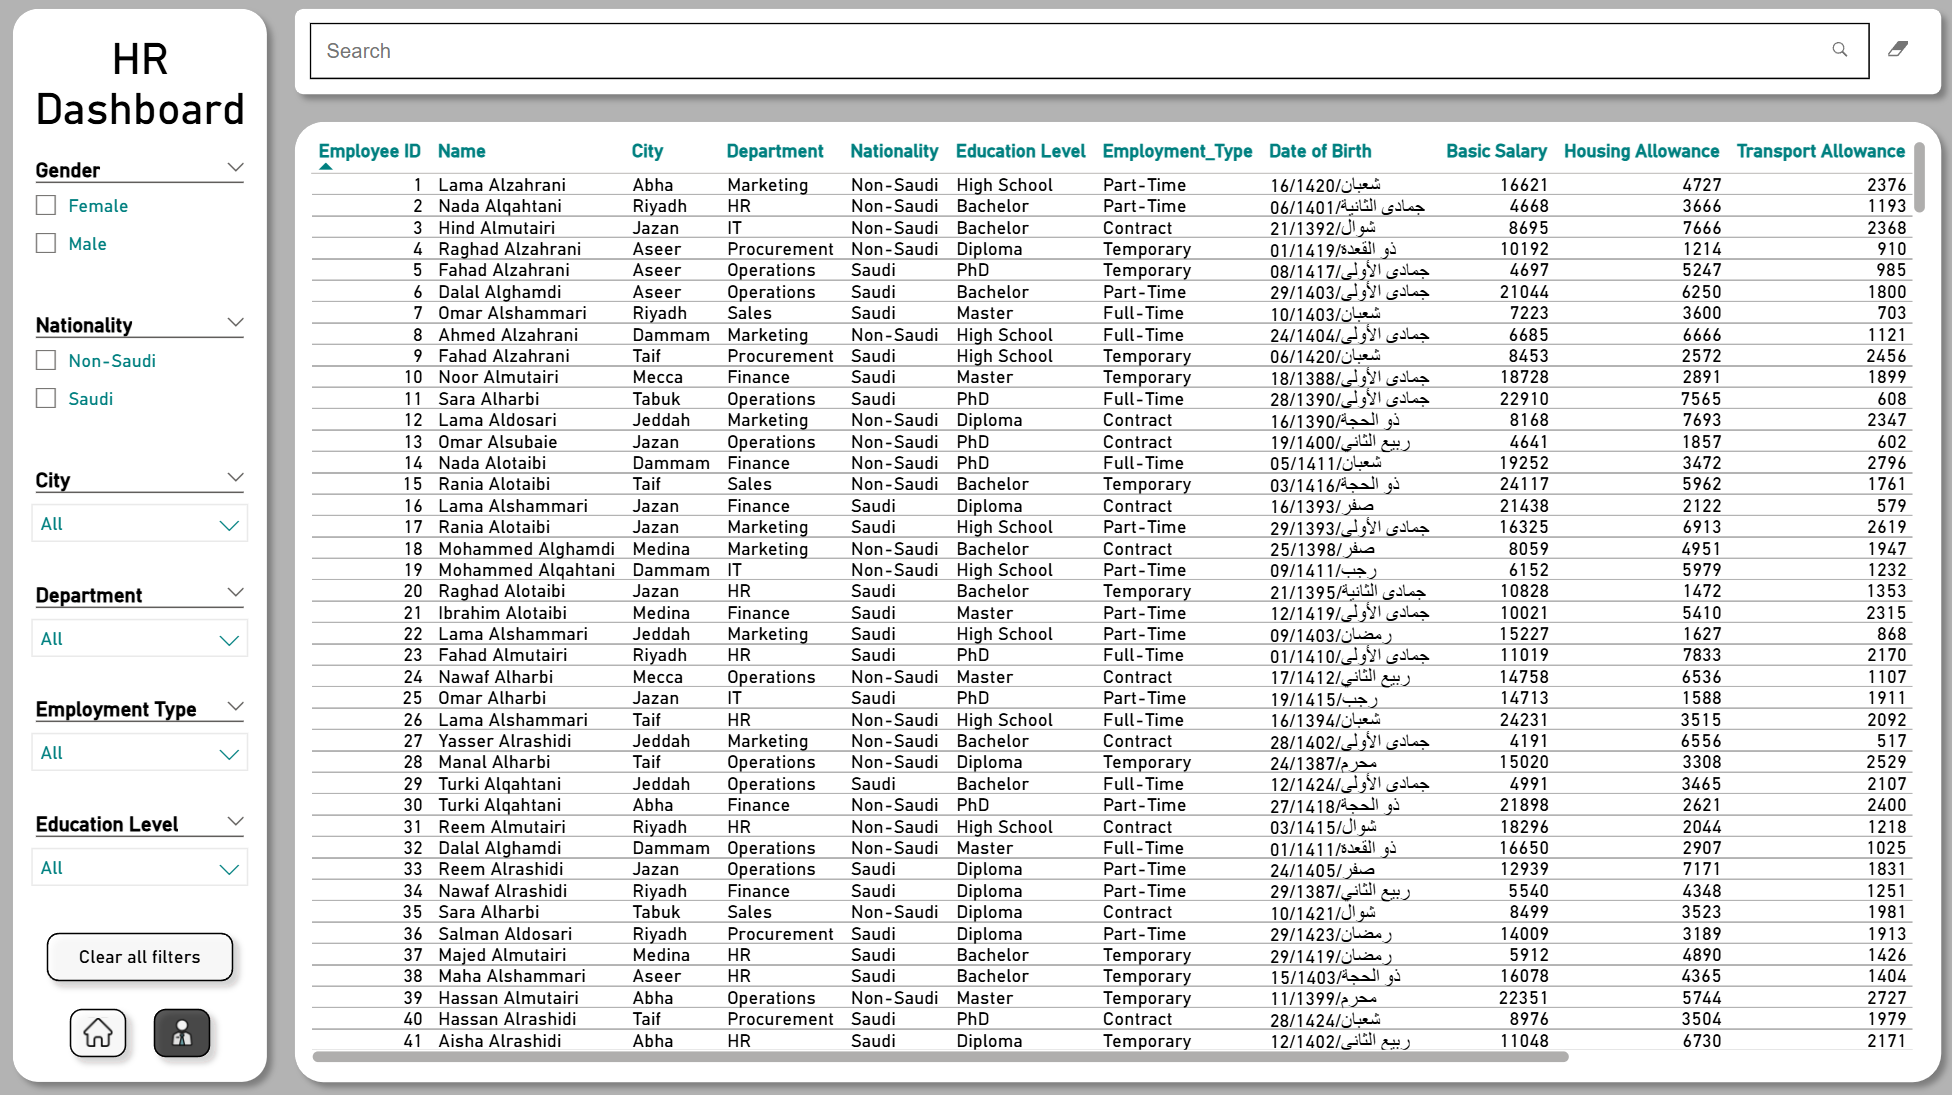

Layout of this report page (visuals, bound fields, positions):
{"tool":"powerbi","page":{"name":"Employees","canvas":[1280,720],"ordinal":1},"visuals":[{"type":"shape","box":[184.5,0,1095.5,73.9],"z":0},{"type":"shape","box":[184.5,73.9,1095.5,646.5],"z":1000},{"type":"tableEx","fields":{"Values":["Employees.Employee_ID","Employees.Full_Name","Employees.City","Employees.Department","Employees.Nationality","Employees.Education_Level","Employees.Employment_Type","Employees.Date_of_Birth","Sum(Employees.Basic_Salary)","Sum(Employees.Housing_Allowance)","Sum(Employees.Transport_Allowance)","Sum(Employees.Other_Allowance)"]},"box":[198.3,90.3,1068,613.8],"z":2000},{"type":"shape","box":[0,0,184.3,720.3],"z":3000},{"type":"slicer","fields":{"Values":["Employees.Nationality"]},"box":[11.1,203.4,162.3,93.6],"z":5000},{"type":"slicer","fields":{"Values":["Employees.Education_Level"]},"box":[11.1,530.2,162.3,66.7],"z":6000},{"type":"slicer","fields":{"Values":["Employees.Employment_Type"]},"box":[11.1,455,162.3,67.4],"z":7000},{"type":"slicer","fields":{"Values":["Employees.City"]},"box":[11.1,304.7,162.3,67.4],"z":8000},{"type":"textbox","box":[10.9,19.7,162.6,82.3],"z":9000},{"type":"textFilter25A4896A83E0487089E2B90C9AE57C8A","fields":{"field":["Employees.search filter"]},"box":[198.3,13.1,1068,47.8],"z":10000},{"type":"actionButton","box":[22.2,604.7,140,49.7],"z":11000},{"type":"actionButton","box":[37.3,654.4,55,49.7],"z":12000},{"type":"actionButton","box":[92.3,654.4,55,49.7],"z":13000},{"type":"slicer","fields":{"Values":["Employees.Gender"]},"box":[11.1,102.1,162.3,93.6],"z":13001},{"type":"slicer","fields":{"Values":["Employees.Department"]},"box":[11.1,379.9,162.3,67.4],"z":13002}]}

Visuals, with their boxes in screenshot pixels (x1, y1, x2, y2), scaled from the page's 1280x720 canvas onto the 1952x1095 screenshot:
shape: <box>281,0,1951,112</box>
shape: <box>281,112,1951,1094</box>
tableEx - Employees.Employee_ID x Employees.Full_Name: <box>302,137,1931,1071</box>
shape: <box>0,0,281,1094</box>
slicer - Employees.Nationality: <box>17,309,264,452</box>
slicer - Employees.Education_Level: <box>17,806,264,908</box>
slicer - Employees.Employment_Type: <box>17,692,264,794</box>
slicer - Employees.City: <box>17,463,264,566</box>
textbox: <box>17,30,265,155</box>
textFilter25A4896A83E0487089E2B90C9AE57C8A - Employees.search filter: <box>302,20,1931,93</box>
actionButton: <box>34,920,247,995</box>
actionButton: <box>57,995,141,1071</box>
actionButton: <box>141,995,225,1071</box>
slicer - Employees.Gender: <box>17,155,264,298</box>
slicer - Employees.Department: <box>17,578,264,680</box>
